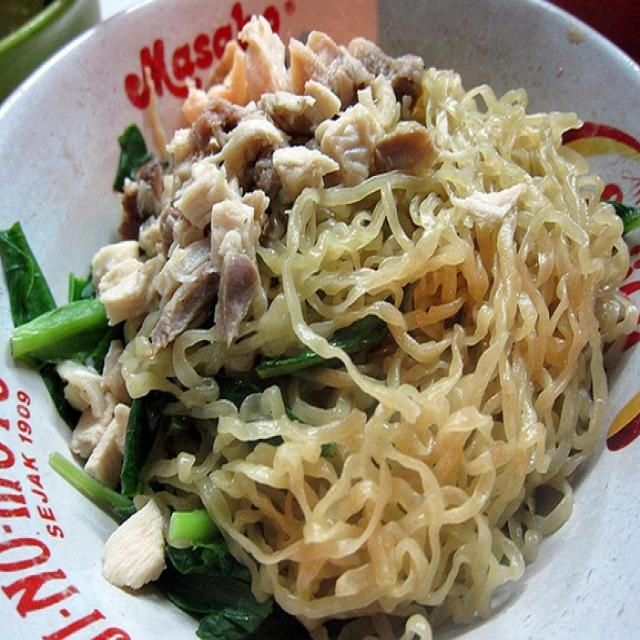面条主食: (28, 34, 616, 581)
